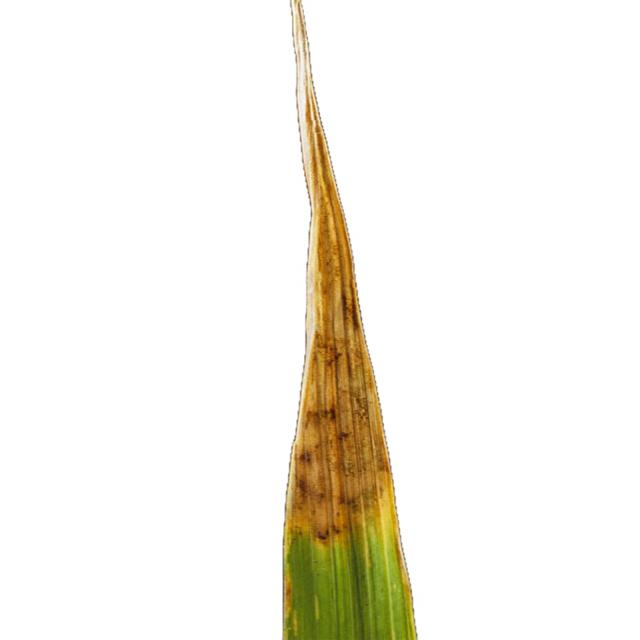Leaf scald: (229, 0, 492, 640)
